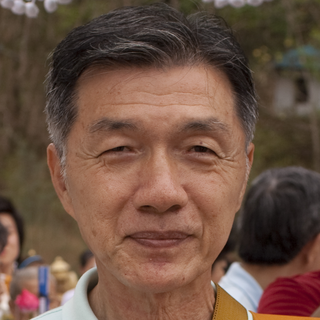eye: (178, 139, 225, 165), (95, 140, 144, 163)
